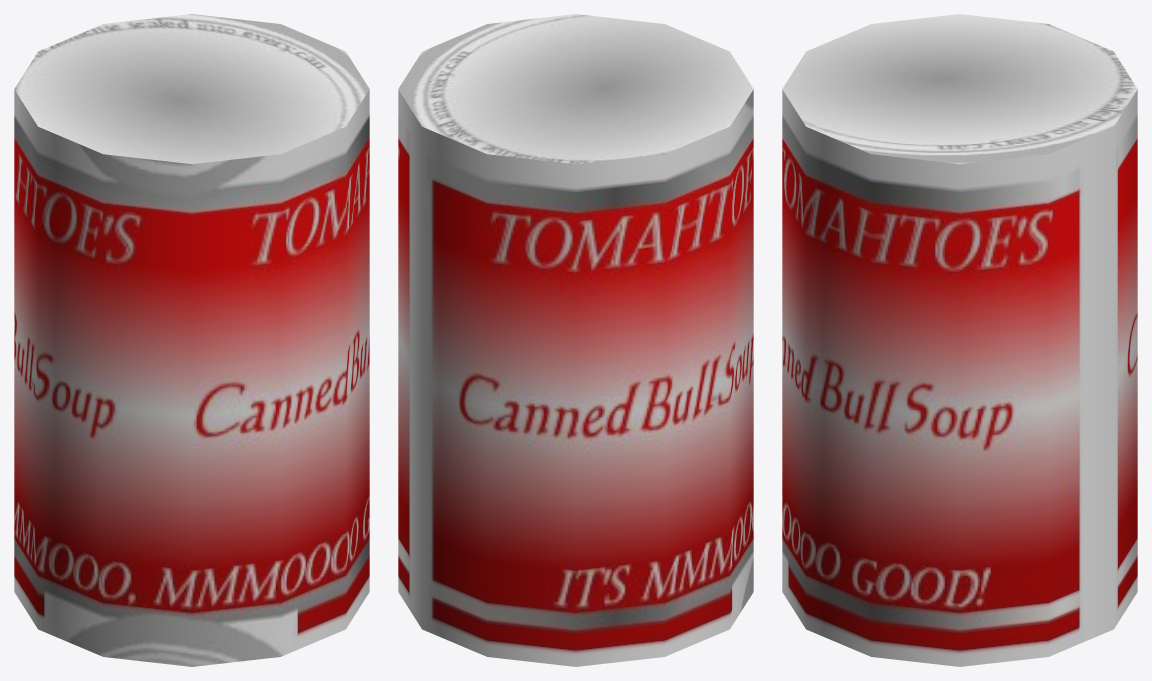
3 renders of one model, left to right at view 1: azimuth 30°, elevation 25°; view 2: azimuth 150°, elevation 25°; view 3: azimuth 270°, elevation 25°, orthographic.
Visible parts, largest first — view 1: Regroup01, Regroup02; view 2: Regroup01, Regroup02; view 3: Regroup01, Regroup02.
Part boxes in pixels (x1=…): Regroup01: x1=14, y1=89, x2=369, y2=666; Regroup02: x1=14, y1=14, x2=369, y2=164; Regroup01: x1=398, y1=89, x2=753, y2=666; Regroup02: x1=398, y1=14, x2=753, y2=164; Regroup01: x1=782, y1=89, x2=1137, y2=666; Regroup02: x1=782, y1=14, x2=1137, y2=164.
Bounding box in the file's own units: 33 × 51.5 × 33.
Materials: 1 (1 with a texture image).
